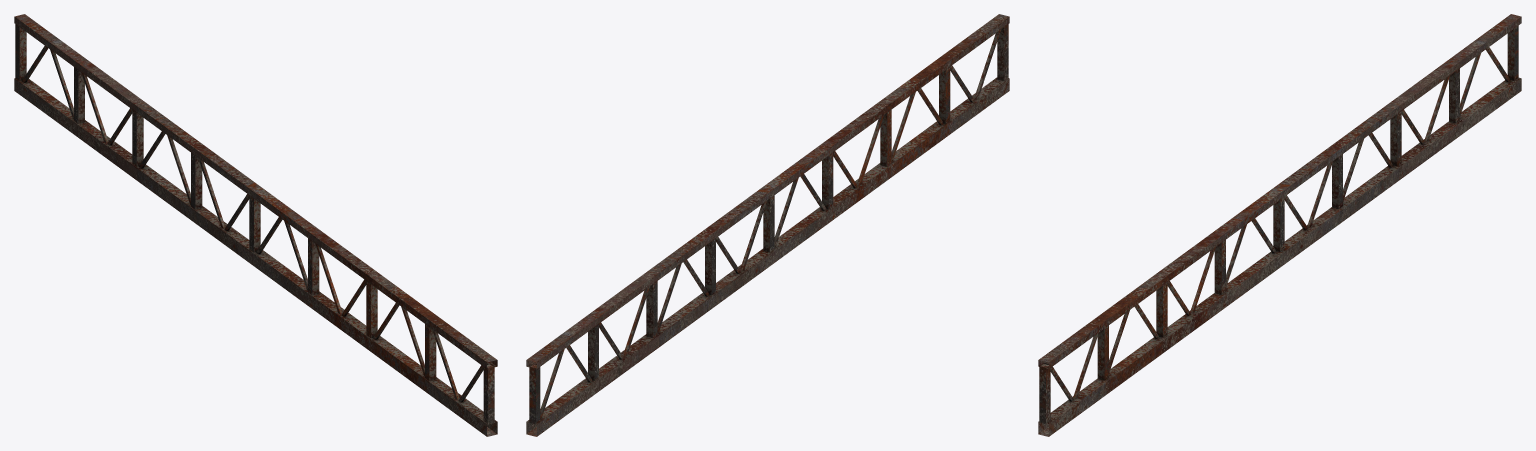
Rendered from Bars.FBX.
3 views of the same model, side by side, from view 1: azimuth 30°, elevation 25°; view 2: azimuth 150°, elevation 25°; view 3: azimuth 330°, elevation 25° (orthographic).
Visible parts, largest first — view 1: Bars; view 2: Bars; view 3: Bars.
Boxes of the visible parts, left/top/right/bottom form: Bars: left=14, top=14, right=497, bottom=436; Bars: left=526, top=14, right=1009, bottom=436; Bars: left=1038, top=14, right=1521, bottom=436.
Bounding box in the file's own units: 12.26 × 84 × 966.
